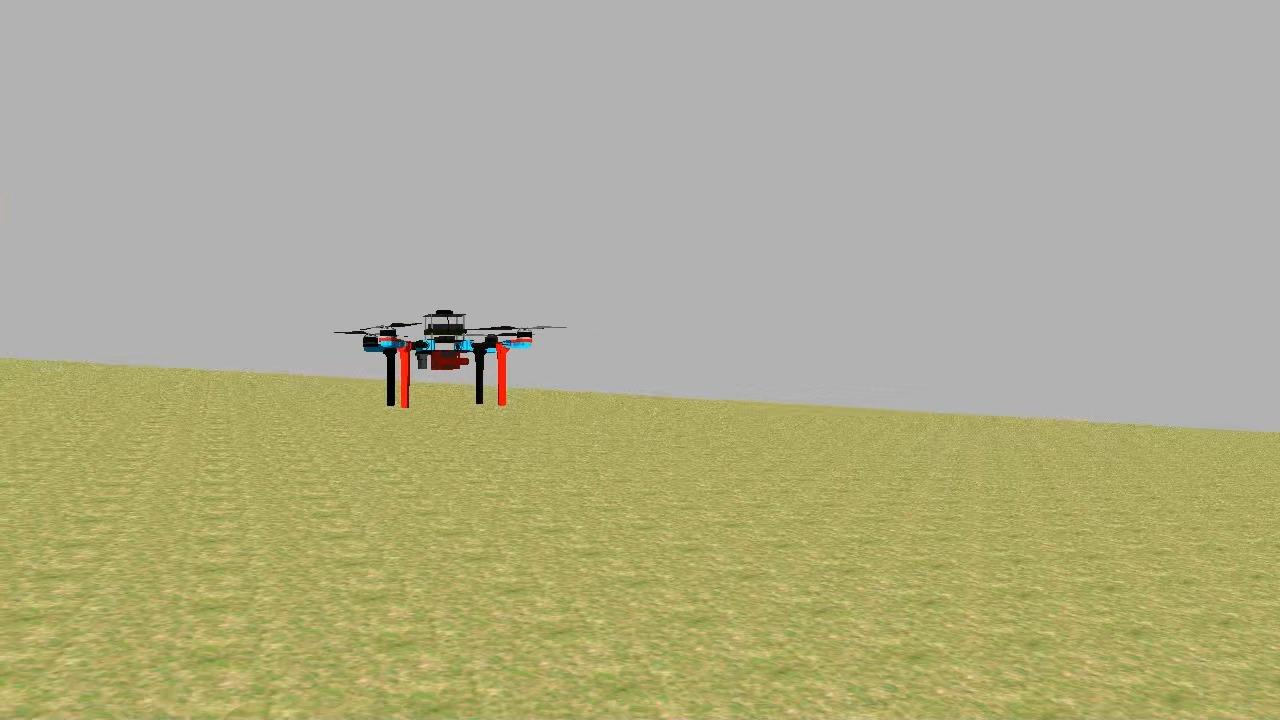UAV: (358, 302, 540, 408)
